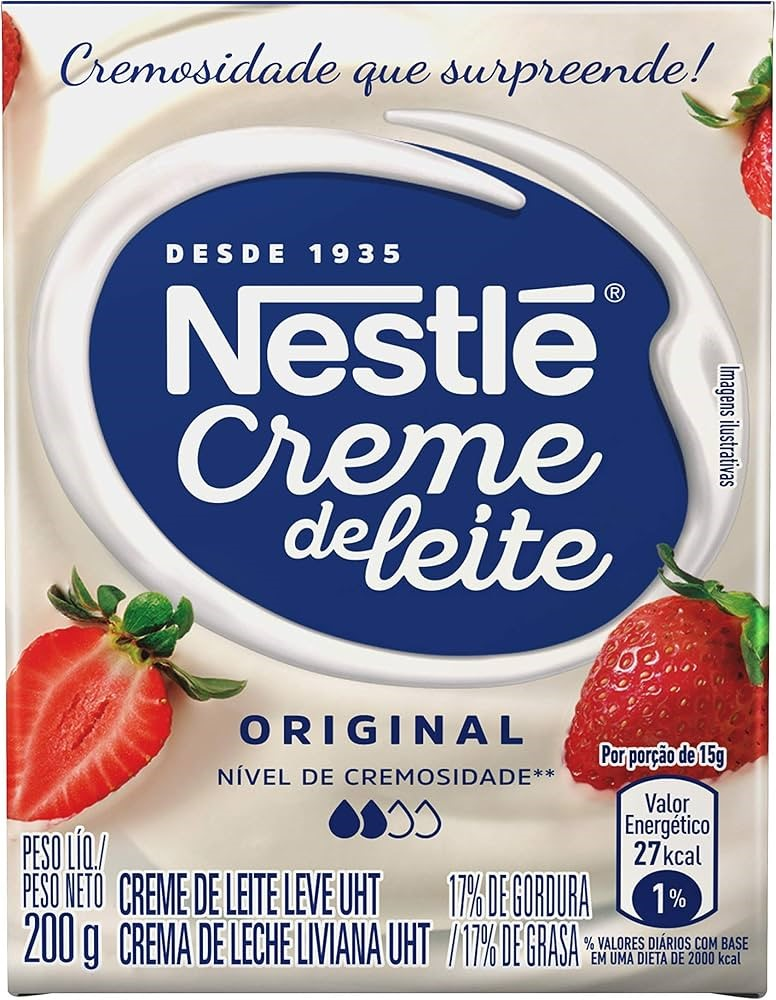creme_de_leite: (272, 612, 349, 676)
